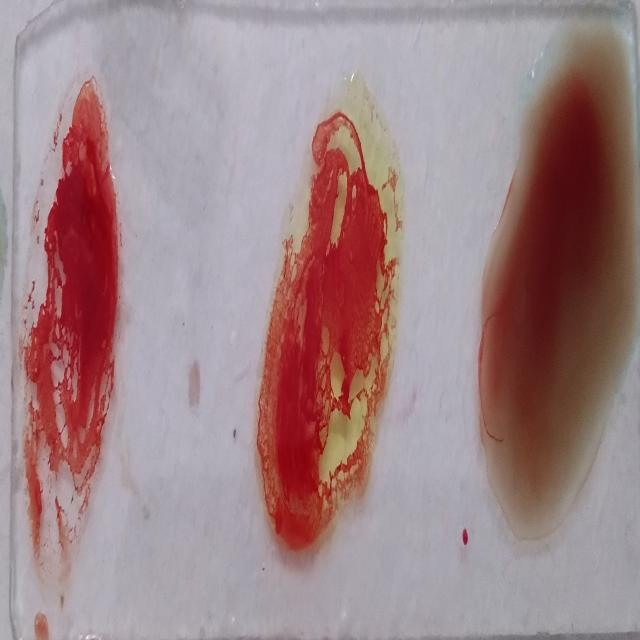B: (259, 78, 399, 565)
D: (21, 73, 117, 587)
